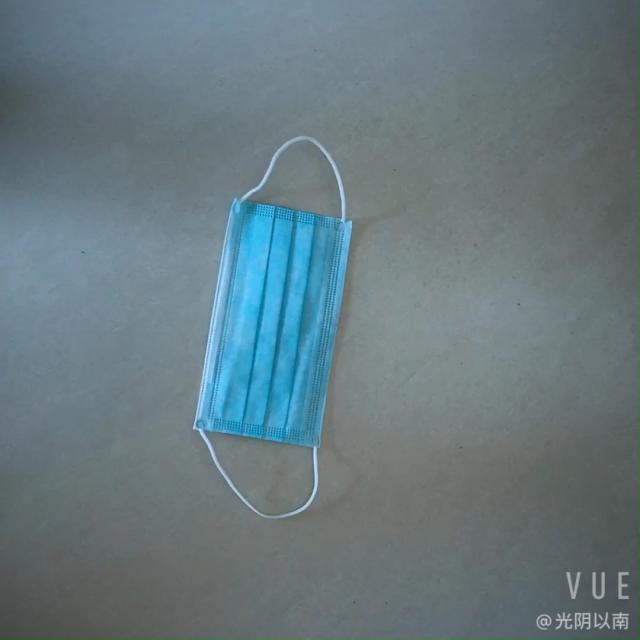non-organic waste: (180, 197, 362, 477)
